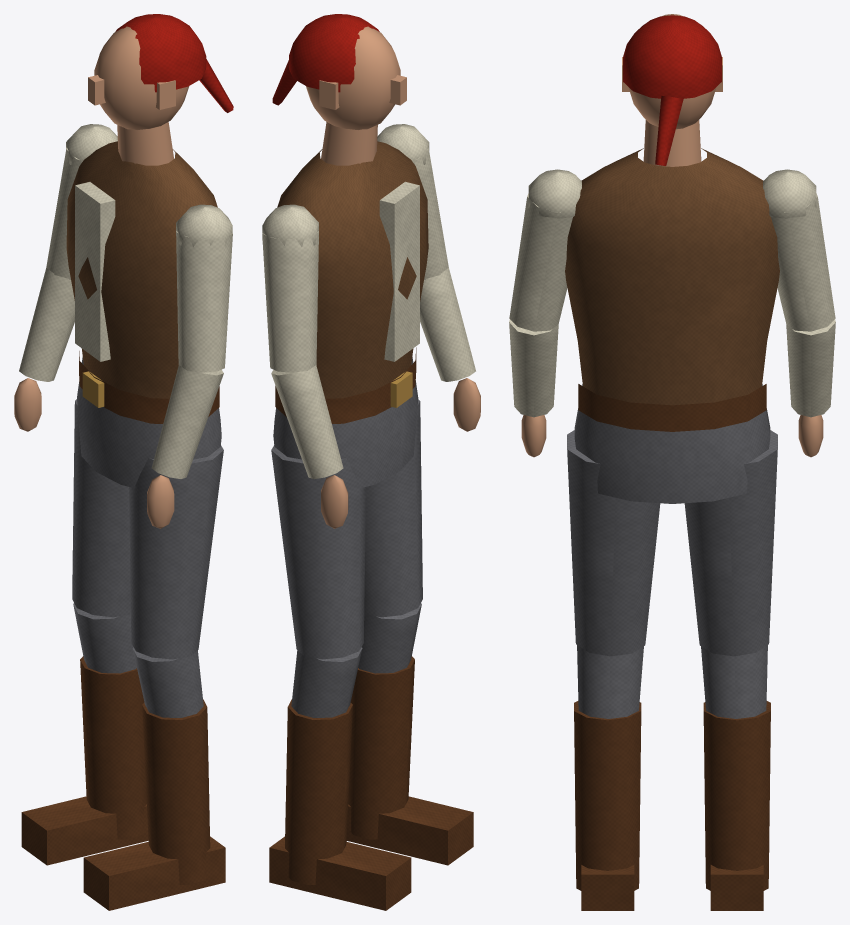
Rendered from SM_Art_Figure_dockworker.gltf.
3 renders of one model, left to right at view 1: azimuth 30°, elevation 25°; view 2: azimuth 150°, elevation 25°; view 3: azimuth 270°, elevation 25°, orthographic. The views are drawn at different scales.
Parts seen in each view (by area): view 1: SM_Art_Figure_dockworker; view 2: SM_Art_Figure_dockworker; view 3: SM_Art_Figure_dockworker.
Boxes of the visible parts, left/top/right/bottom form: SM_Art_Figure_dockworker: left=14, top=14, right=233, bottom=910; SM_Art_Figure_dockworker: left=262, top=14, right=480, bottom=910; SM_Art_Figure_dockworker: left=509, top=14, right=835, bottom=910.
Size of the model in its own units: 0.3613 by 1.78 by 0.6021.
7 materials, 5 textured.
